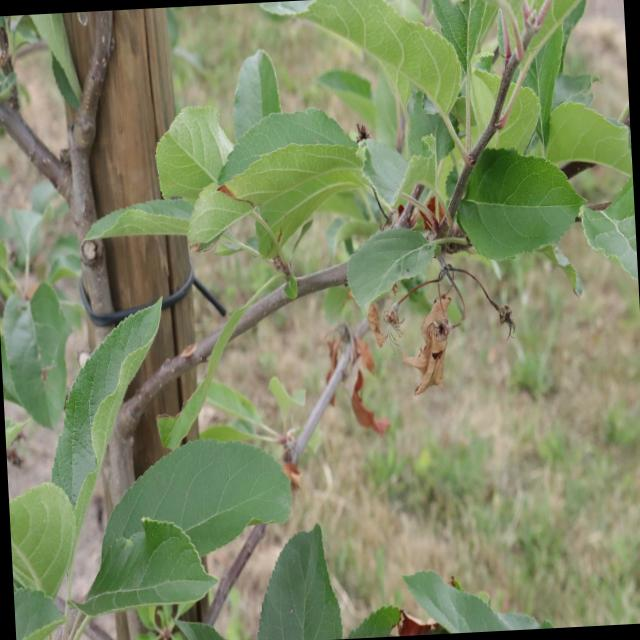-FireBlight-: (400, 277, 456, 403)
